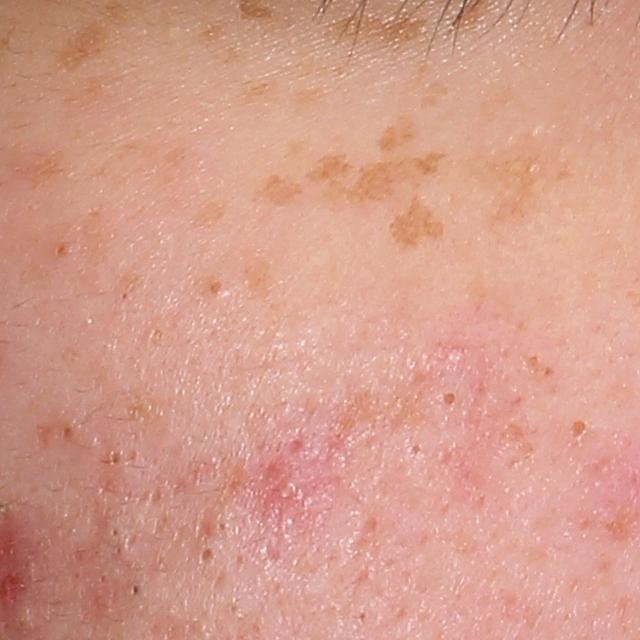atrophic_scar: (347, 512, 380, 554)
comedo: (565, 417, 592, 449), (11, 606, 38, 633), (403, 439, 425, 464), (439, 388, 460, 413), (204, 275, 224, 300), (195, 542, 216, 565), (58, 421, 78, 443), (106, 448, 125, 468), (127, 581, 144, 600), (212, 520, 230, 535), (108, 524, 122, 541)
melasma: (468, 142, 579, 237), (303, 150, 444, 212), (56, 0, 129, 75), (318, 13, 435, 50), (387, 194, 445, 254), (241, 244, 277, 303), (250, 173, 305, 211), (183, 198, 229, 237), (375, 112, 418, 153), (194, 22, 231, 49)
